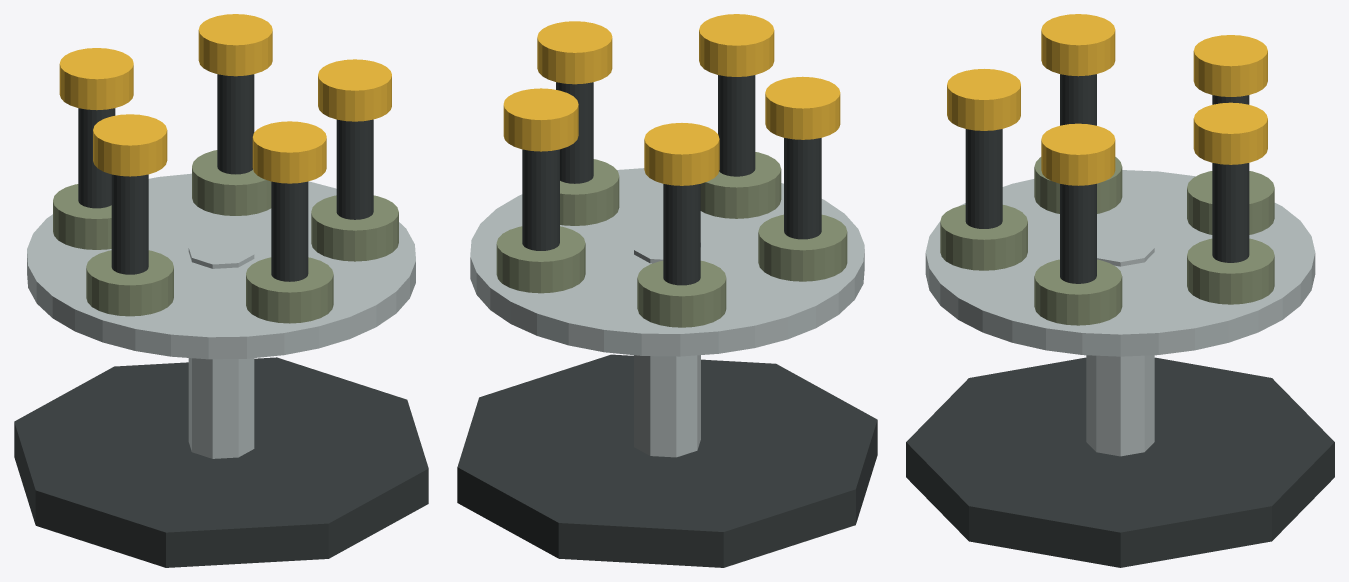
File: mountain-border-checkpoint-mountain-border-checkpoint--d8be676c__30304.glb
3 renders of one model, left to right at view 1: azimuth 30°, elevation 25°; view 2: azimuth 150°, elevation 25°; view 3: azimuth 270°, elevation 25°, orthographic.
Parts seen in each view (by area): view 1: mountain-border-checkpoint-stamp-carousel; view 2: mountain-border-checkpoint-stamp-carousel; view 3: mountain-border-checkpoint-stamp-carousel.
Boxes of the visible parts, bbox=[...] form: mountain-border-checkpoint-stamp-carousel: bbox=[14, 14, 428, 567]; mountain-border-checkpoint-stamp-carousel: bbox=[457, 14, 877, 567]; mountain-border-checkpoint-stamp-carousel: bbox=[906, 14, 1334, 567].
Bounding box in the file's own units: 0.44 × 0.445 × 0.44.
